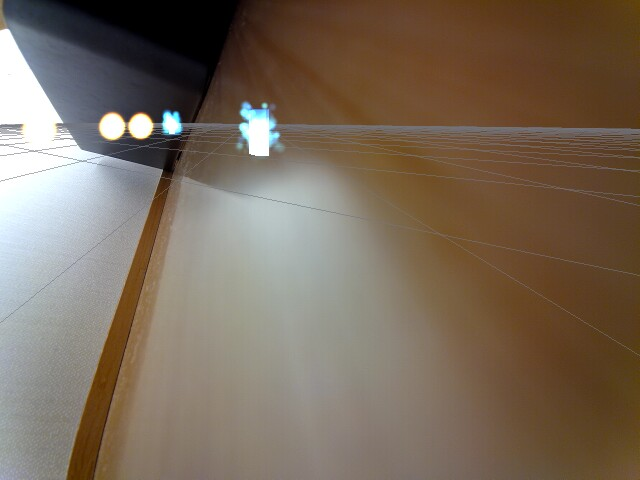firebig: (4, 93, 61, 162)
